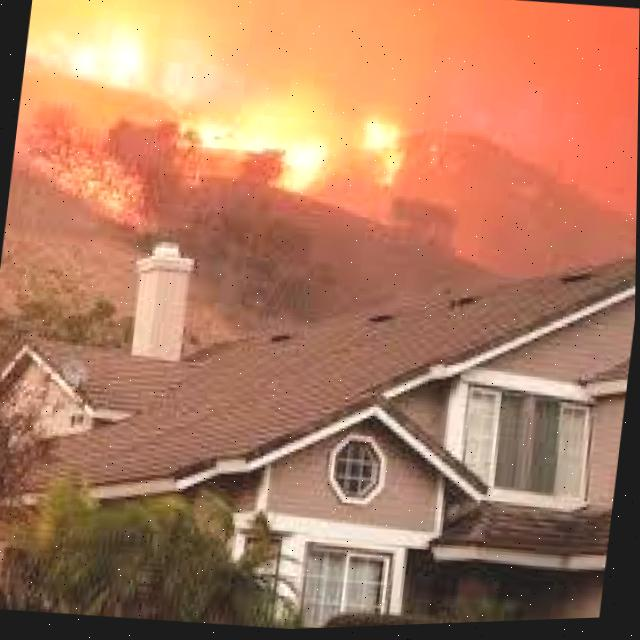smoke: (0, 0, 640, 364)
